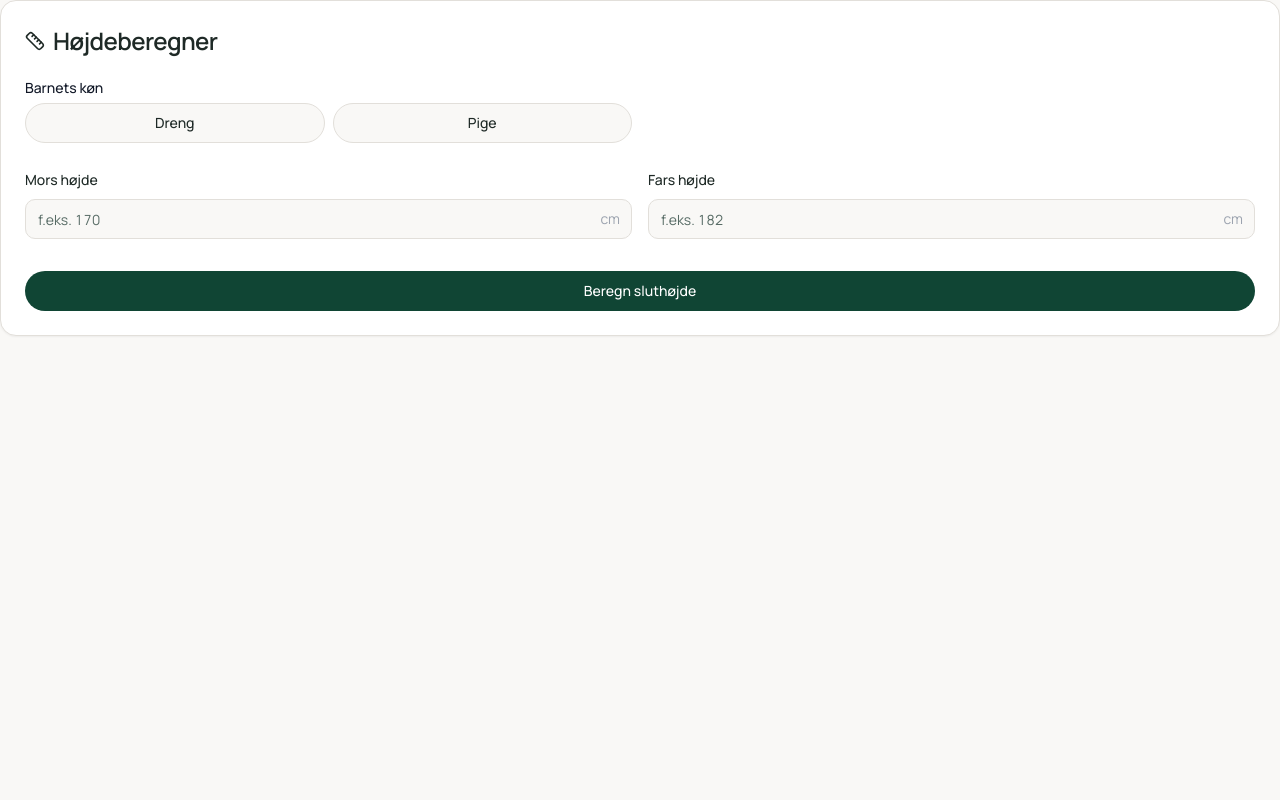
Test: AdultHeightCalculator › predicts a lower height for a girl with the same parents
Click the button "Pige": (482, 123) [332,103,632,143]
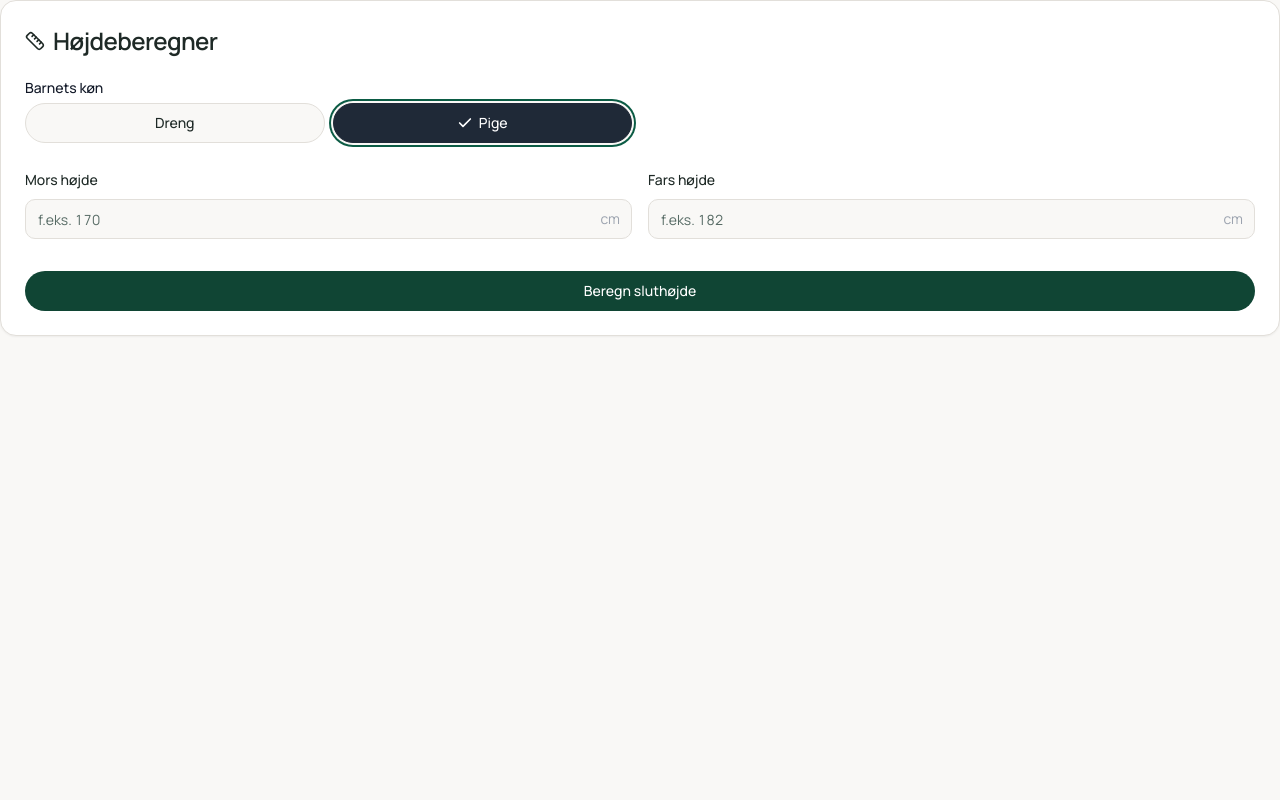
In the field labelled "Mors højde": (328, 219) [25,199,632,239], type "170"
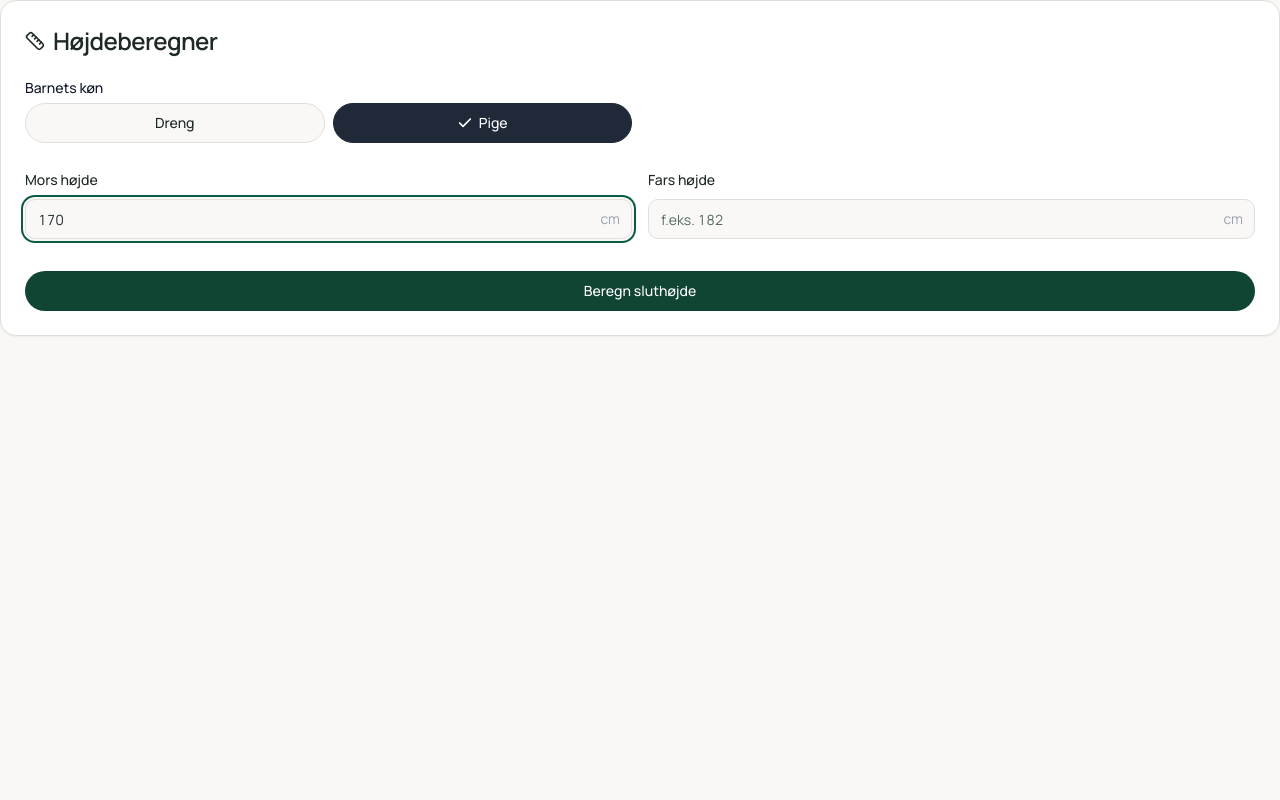
In the field labelled "Fars højde": (952, 219) [648,199,1255,239], type "182"
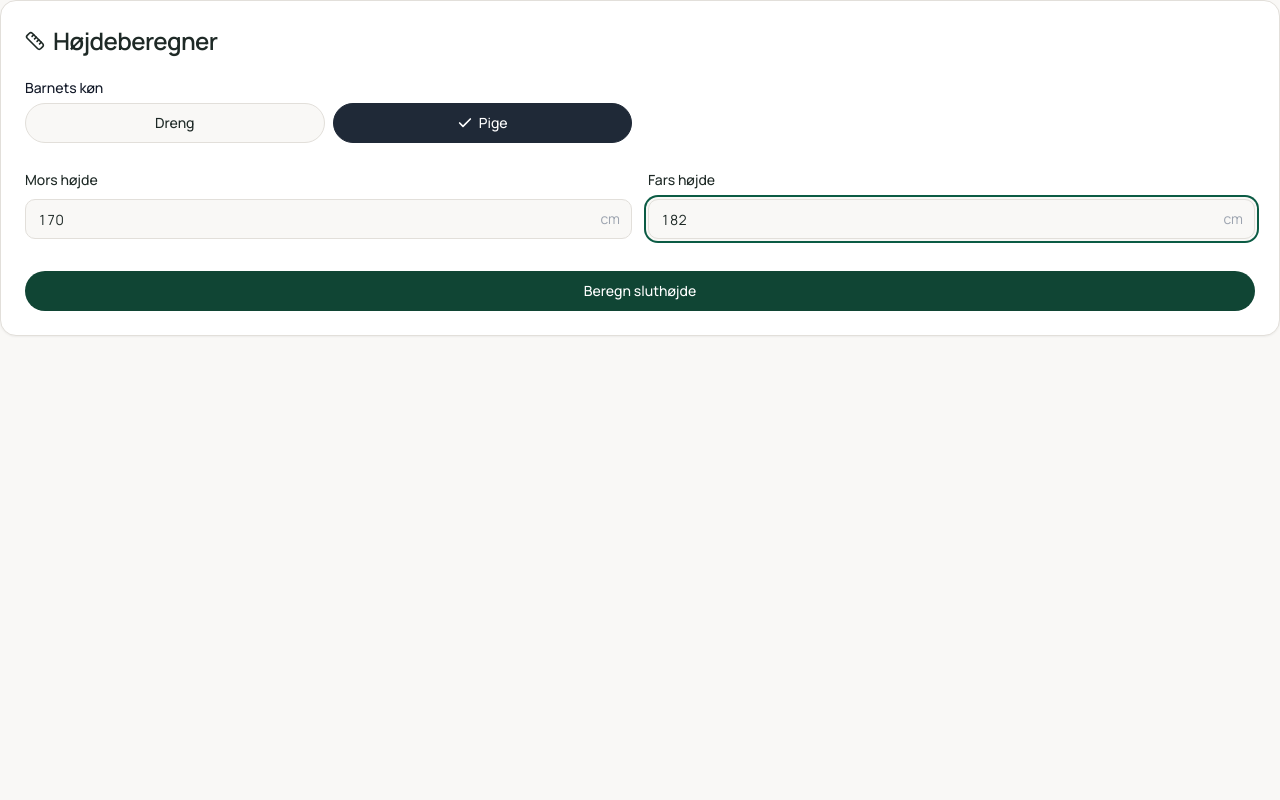
Click the button "Beregn sluthøjde": (640, 291) [25,271,1255,311]
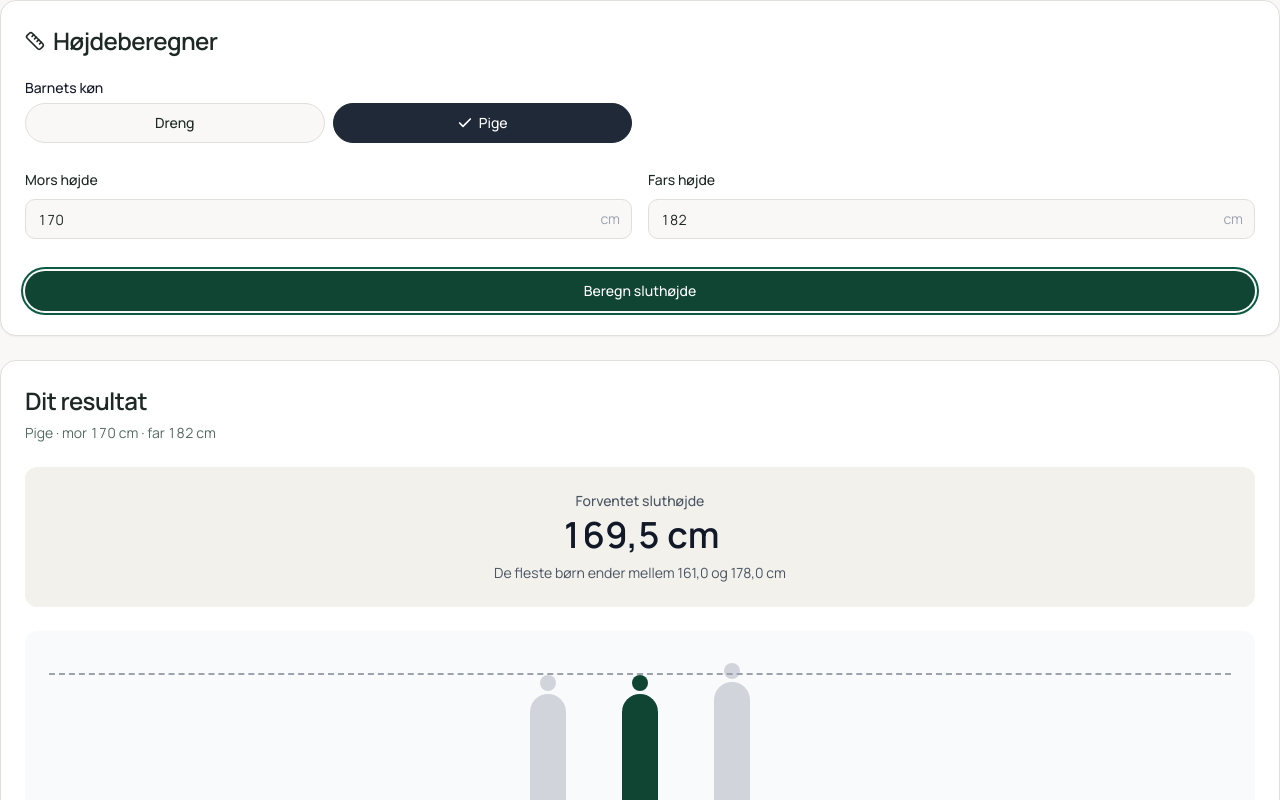
Check: the text "169,5 cm" is shown, box [560,510,720,559]
